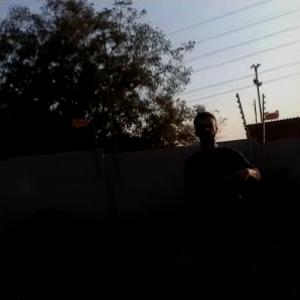follow: (180, 107, 269, 299)
